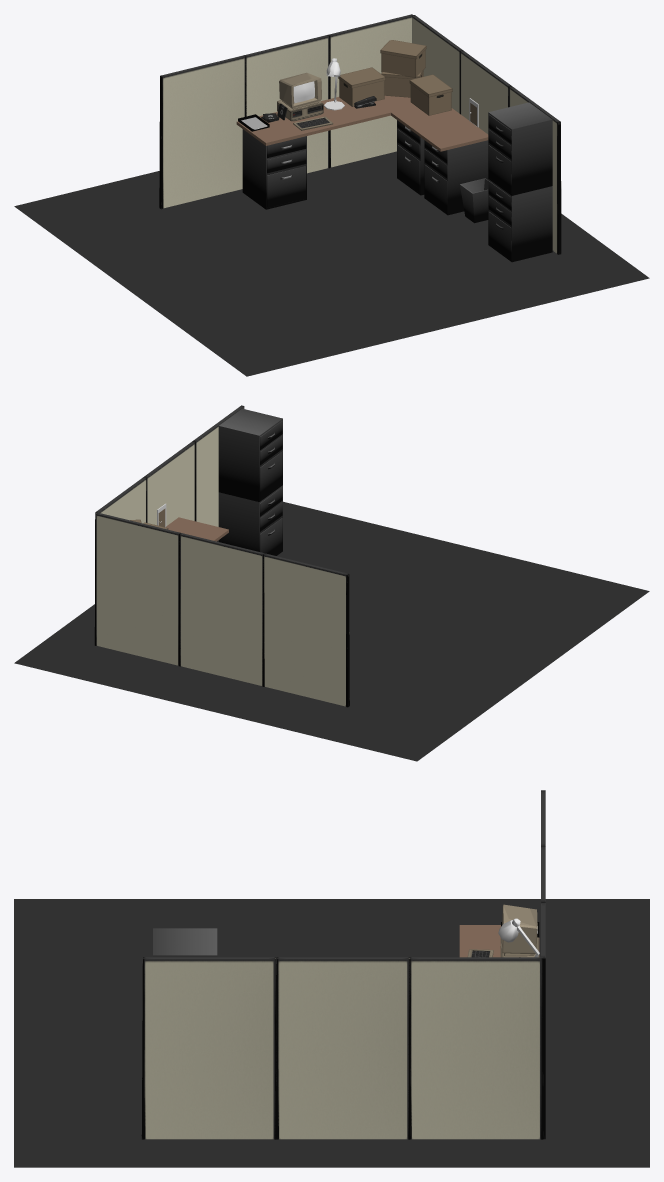
Rendered from all asset test.fbx.
The picture shows the model from 3 angles, top to bottom: view 1: azimuth 30°, elevation 25°; view 2: azimuth 150°, elevation 25°; view 3: azimuth 270°, elevation 25°; orthographic projection. The views are drawn at different scales.
Visible parts, largest first — view 1: Plane, wall devider.004, wall devider.001, table, wall devider, cabanit.004, cabanit.003, wall devider.002, wall devider.003, cabanit.001, cabainit, wall devider.010 (+13 smaller); view 2: Plane, wall devider.004, wall devider, wall devider.001, cabanit.004, wall devider.002, wall devider.010, cabanit.003, wall devider.003, table, Cube.031, Cube.028; view 3: Plane, wall devider.010, wall devider.002, wall devider.003, cabanit.004, monitor, table, wall devider.001.
Boxes of the visible parts, bbox=[...] form: Plane: bbox=[14, 151, 649, 376]; wall devider.004: bbox=[159, 55, 246, 209]; wall devider.001: bbox=[328, 14, 413, 167]; table: bbox=[236, 95, 488, 151]; wall devider: bbox=[244, 35, 330, 173]; cabanit.004: bbox=[488, 102, 552, 195]; cabanit.003: bbox=[488, 179, 552, 262]; wall devider.002: bbox=[460, 50, 511, 134]; wall devider.003: bbox=[412, 15, 462, 113]; cabanit.001: bbox=[424, 140, 488, 215]; cabainit: bbox=[242, 129, 306, 209]; wall devider.010: bbox=[509, 86, 561, 254]; Plane: bbox=[14, 501, 649, 761]; wall devider.004: bbox=[262, 553, 349, 707]; wall devider: bbox=[178, 533, 265, 686]; wall devider.001: bbox=[94, 512, 180, 666]; cabanit.004: bbox=[218, 408, 282, 501]; wall devider.002: bbox=[144, 441, 195, 525]; wall devider.010: bbox=[193, 405, 244, 526]; cabanit.003: bbox=[218, 485, 282, 555]; wall devider.003: bbox=[95, 477, 146, 560]; table: bbox=[165, 517, 228, 541]; Cube.031: bbox=[260, 451, 282, 499]; Cube.028: bbox=[260, 518, 282, 555]; Plane: bbox=[14, 899, 649, 1167]; wall devider.010: bbox=[141, 957, 277, 1139]; wall devider.002: bbox=[275, 957, 410, 1139]; wall devider.003: bbox=[409, 957, 543, 1139]; cabanit.004: bbox=[153, 928, 217, 957]; monitor: bbox=[502, 904, 537, 956]; table: bbox=[459, 925, 539, 957]; wall devider.001: bbox=[541, 902, 545, 1139].
Size of the model in its own units: 1595 by 504 by 1595.
Materials: 19 (13 with a texture image).
